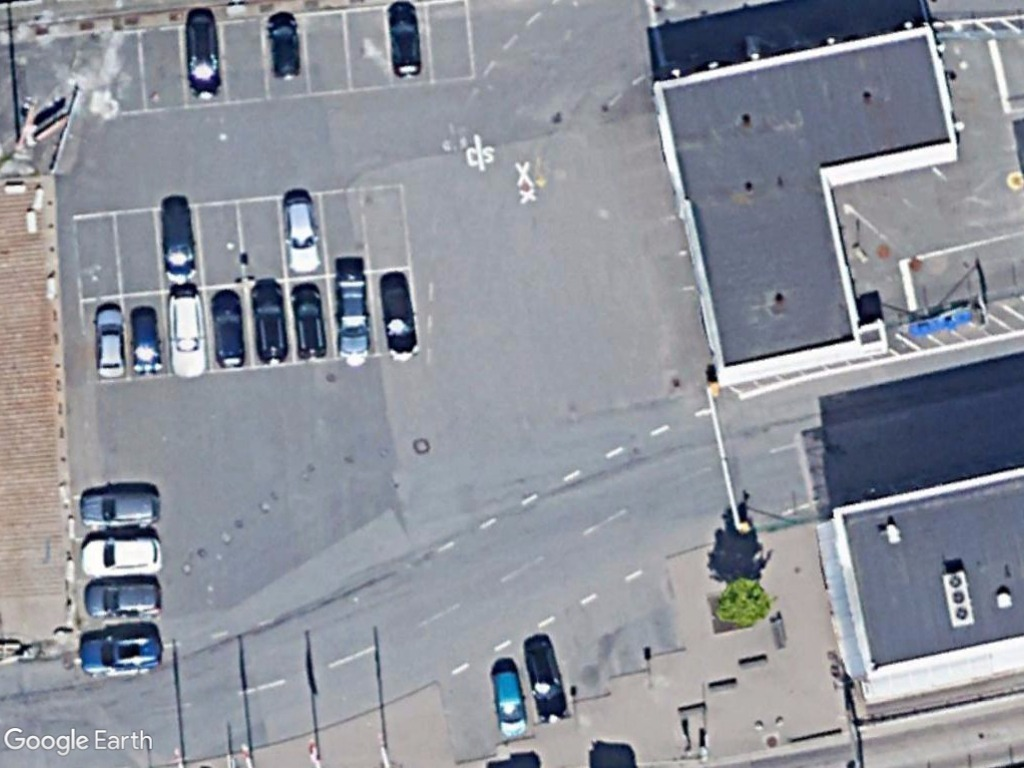car: (517, 626, 577, 729), (240, 267, 292, 371), (371, 267, 427, 363), (73, 624, 169, 680), (76, 531, 169, 584), (71, 482, 166, 533), (180, 5, 228, 103), (279, 189, 328, 282), (164, 279, 209, 378), (78, 576, 167, 624), (156, 197, 203, 286), (283, 275, 329, 361), (381, 0, 428, 84), (487, 663, 532, 747), (205, 282, 245, 373), (90, 298, 130, 385), (261, 10, 306, 83), (121, 300, 164, 376)
